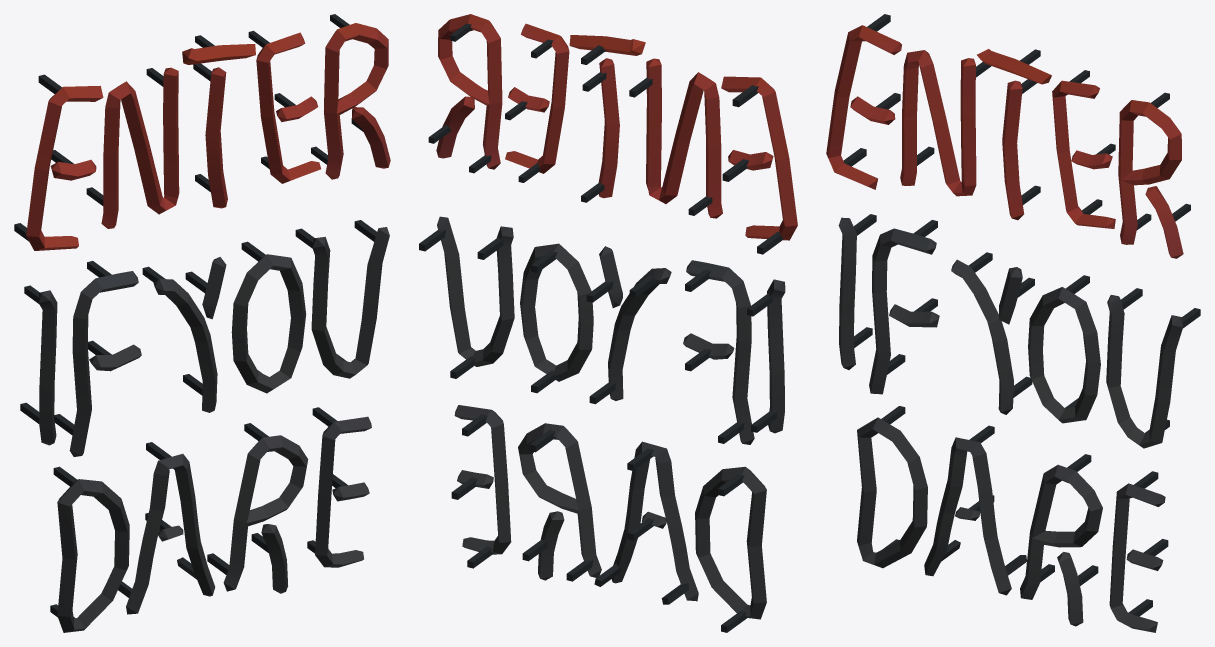
The model's file is SM_Prop_Sign_Neon_02.glb.
3 renders of one model, left to right at view 1: azimuth 30°, elevation 25°; view 2: azimuth 150°, elevation 25°; view 3: azimuth 330°, elevation 25°, orthographic.
Visible parts, largest first — view 1: SM_Prop_Sign_Neon_02; view 2: SM_Prop_Sign_Neon_02; view 3: SM_Prop_Sign_Neon_02.
Boxes of the visible parts, x1,y1,x2,y2 form: SM_Prop_Sign_Neon_02: [14, 14, 390, 632]; SM_Prop_Sign_Neon_02: [419, 14, 797, 632]; SM_Prop_Sign_Neon_02: [826, 14, 1200, 632].
Size of the model in its own units: 91.84 by 137 by 12.71.
1 material, 1 textured.
